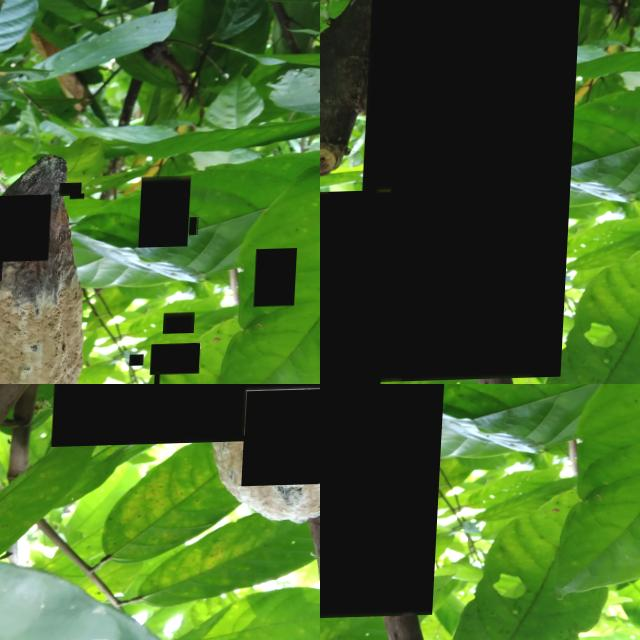Monilia: (320, 384, 449, 620), (245, 389, 320, 488)
Sana: (357, 0, 581, 383), (55, 384, 320, 447), (320, 191, 393, 384), (141, 179, 193, 250), (0, 196, 53, 263), (257, 252, 300, 310), (154, 346, 205, 378), (167, 316, 198, 336), (61, 185, 84, 198), (133, 357, 148, 369), (192, 220, 201, 238), (72, 196, 87, 201), (158, 375, 164, 384)
